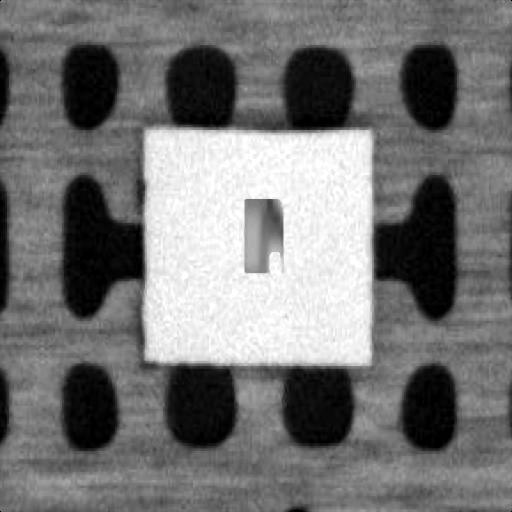DIE_INK: (363, 131, 422, 181)
